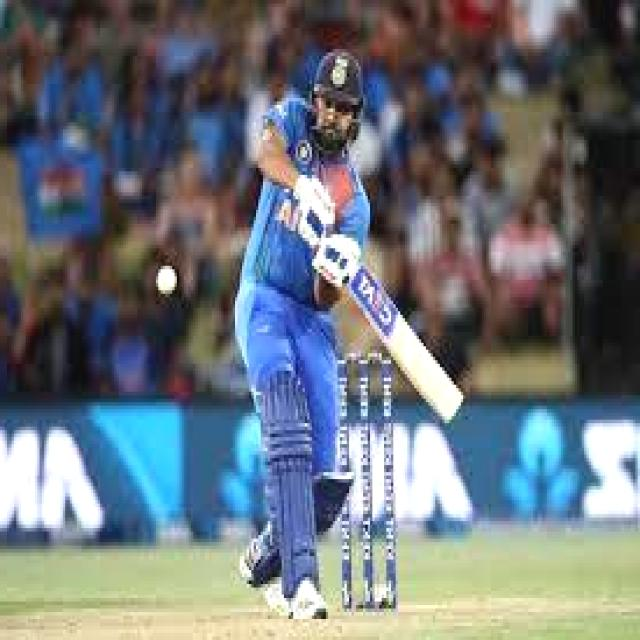toe: (439, 397, 462, 425)
